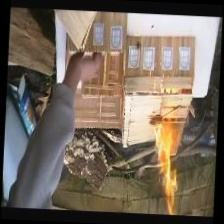fire: (142, 114, 190, 217)
